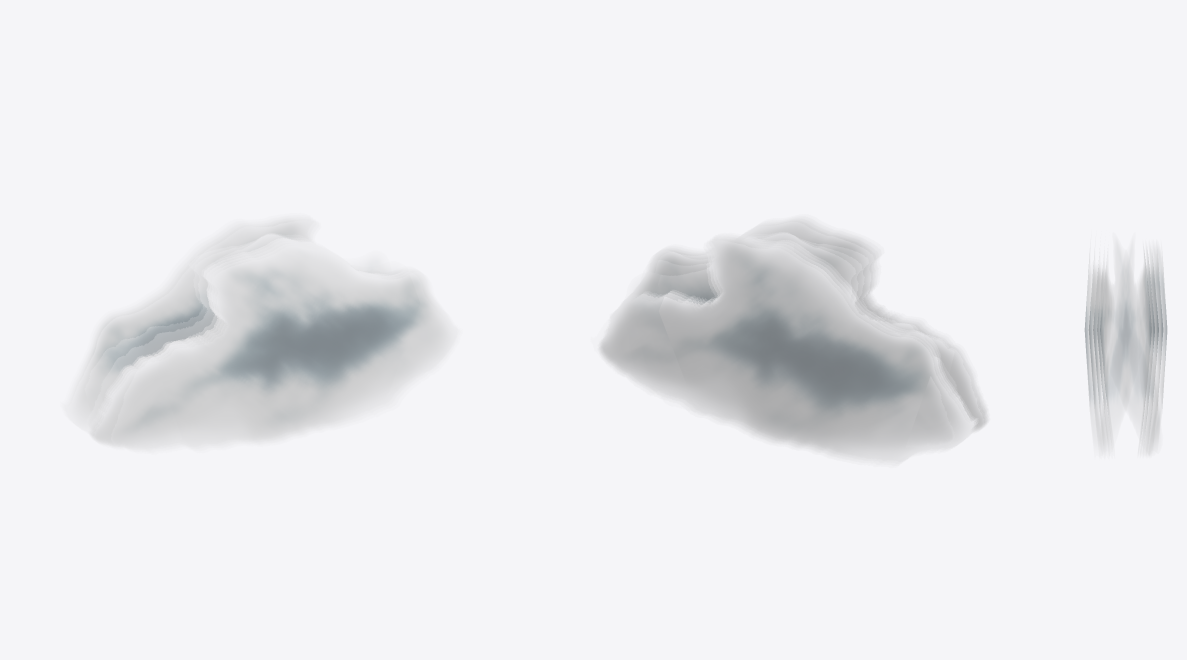
File: model-light.glb
3 views of the same model, side by side, from view 1: azimuth 30°, elevation 25°; view 2: azimuth 150°, elevation 25°; view 3: azimuth 270°, elevation 25° (orthographic). The views are drawn at different scales.
Visible parts, largest first — view 1: cloud-1.004; view 2: cloud-1.004, cloud-1.001; view 3: cloud-1.004, cloud-1.001, cloud-1.002.
Part boxes in pixels (x1,y1,x2,y2): cloud-1.004: (68, 218, 454, 449); cloud-1.004: (600, 220, 987, 460); cloud-1.001: (632, 285, 717, 319); cloud-1.004: (1085, 249, 1166, 454); cloud-1.001: (1106, 253, 1155, 418); cloud-1.002: (1104, 254, 1144, 420).
Size of the model in its own units: 7.22 by 7.22 by 1.43.
12 materials, 12 textured.
